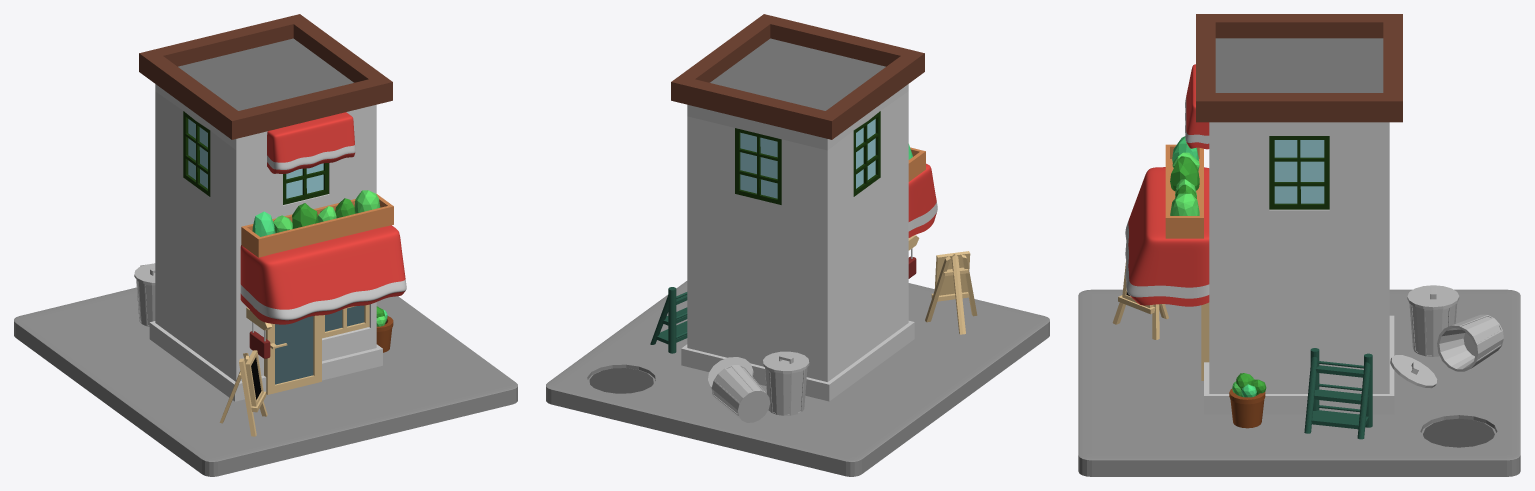
The model's file is building.glb.
3 renders of one model, left to right at view 1: azimuth 30°, elevation 25°; view 2: azimuth 150°, elevation 25°; view 3: azimuth 270°, elevation 25°, orthographic. The views are drawn at different scales.
Visible parts, largest first — view 1: Cylinder; view 2: Cylinder; view 3: Cylinder.
Part boxes in pixels (<box>): Cylinder: <box>14,14,517,476</box>; Cylinder: <box>546,14,1049,476</box>; Cylinder: <box>1078,14,1520,476</box>.
Bounding box in the file's own units: 1466 × 1340 × 1605.
